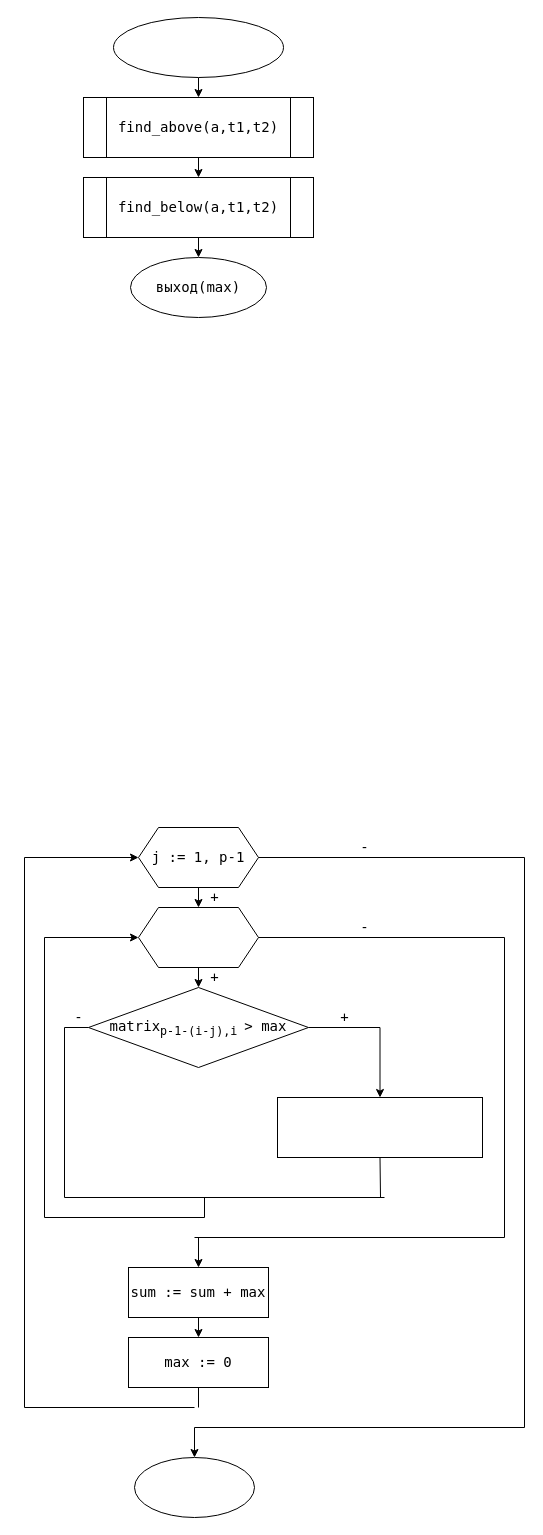
Image size: 543x1535. Some labels were removed from this diagram. Each missing label, with the centre of its shape:
"find_maxs_and_sum" belongs at (198,47).
"i := j, p-1" belongs at (198,937).
"max := matrix p-1-(i-j),i" belongs at (379,1127).
"выход(sum)" belongs at (194,1487).
